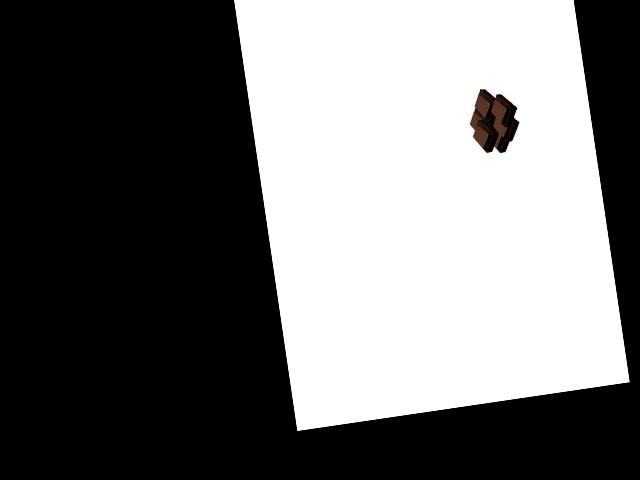chocolate: (463, 85, 521, 158)
